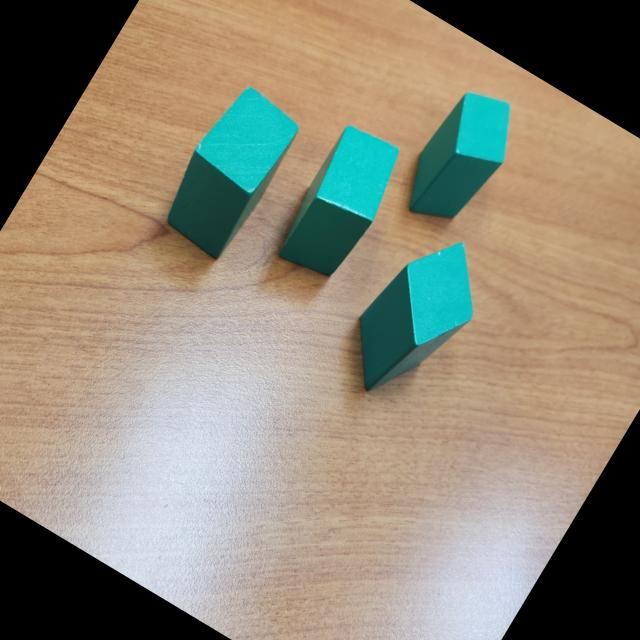green: (329, 216, 503, 418), (150, 77, 309, 266), (268, 119, 411, 289), (390, 77, 531, 241)
